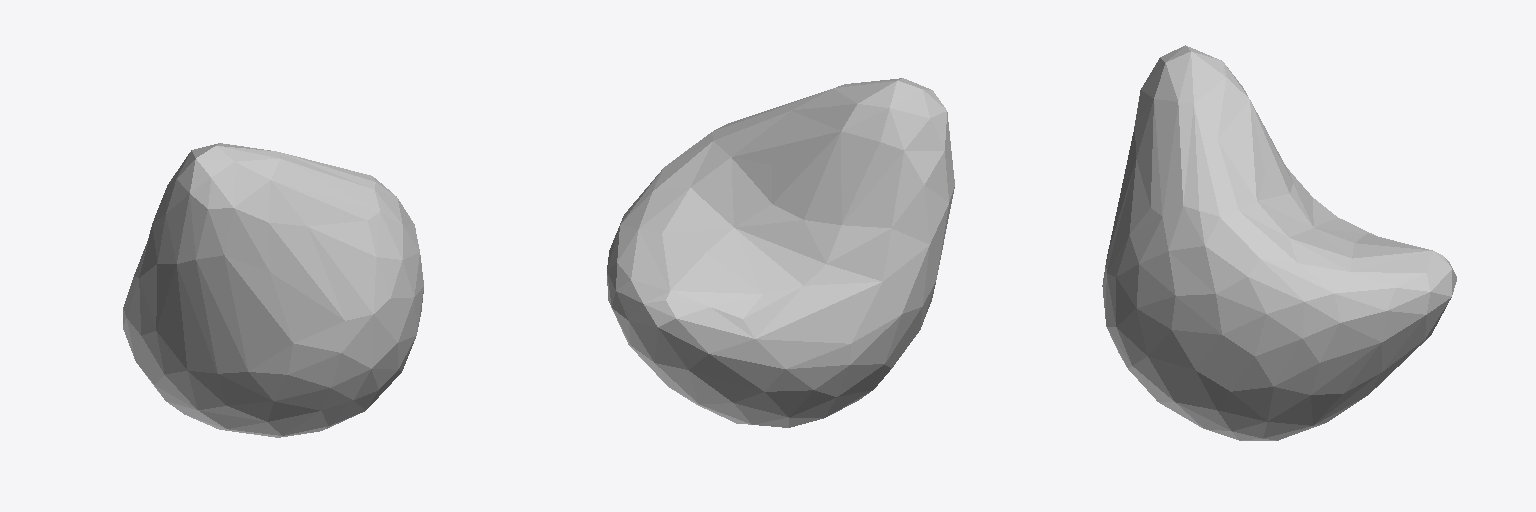
The model's file is smallRock01.obj.
The picture shows the model from 3 angles: view 1: azimuth 30°, elevation 25°; view 2: azimuth 150°, elevation 25°; view 3: azimuth 270°, elevation 25°; orthographic projection.
Parts seen in each view (by area): view 1: smallRock01_Cube.190; view 2: smallRock01_Cube.190; view 3: smallRock01_Cube.190.
Boxes of the visible parts, x1=… form: smallRock01_Cube.190: x1=123, y1=143, x2=423, y2=437; smallRock01_Cube.190: x1=607, y1=78, x2=954, y2=427; smallRock01_Cube.190: x1=1102, y1=45, x2=1456, y2=440.
Bounding box in the file's own units: 0.3423 × 0.3822 × 0.3764.